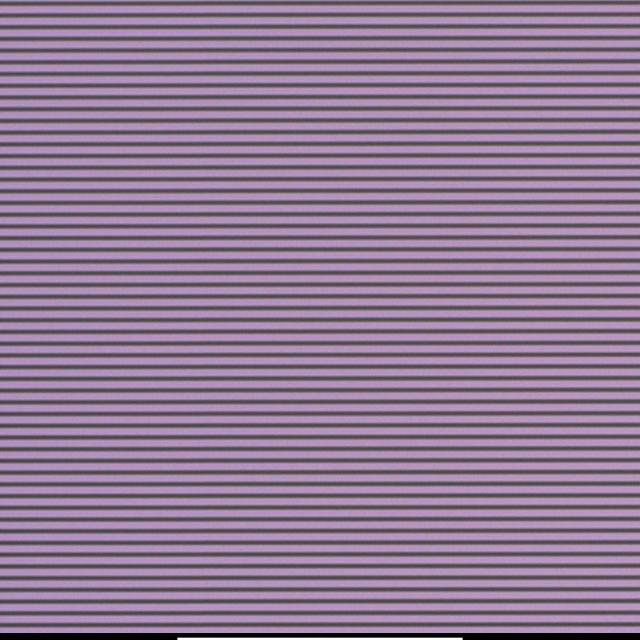nonvisual: (337, 306, 345, 312)
